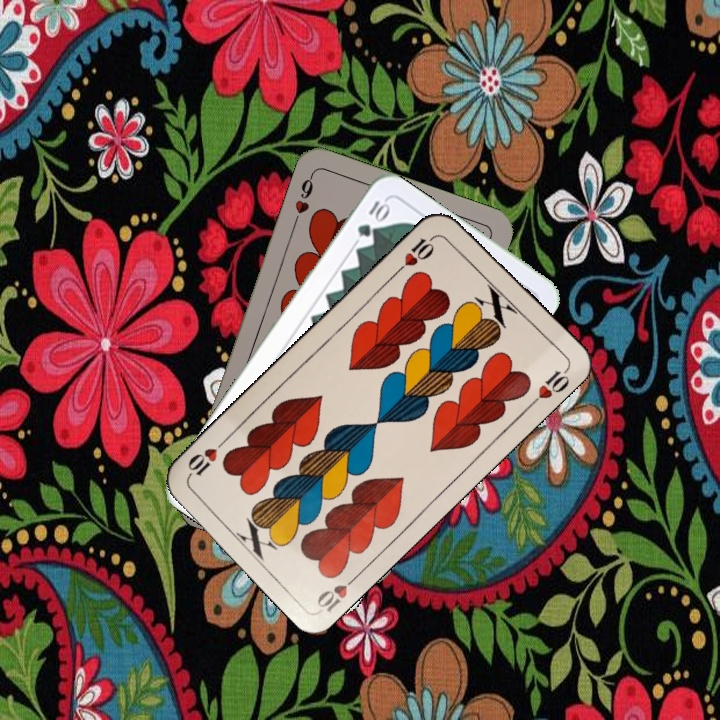G10: (353, 196, 392, 240)
H10: (312, 568, 363, 615), (392, 231, 440, 276)
H9: (289, 170, 316, 227)
